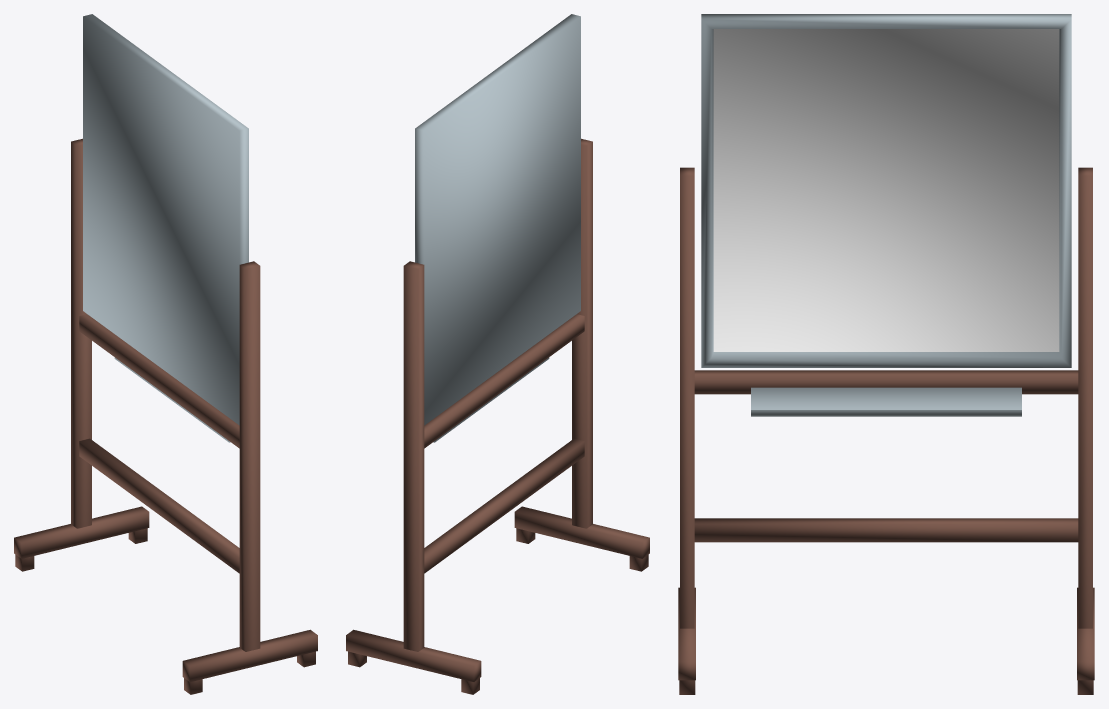
File: whiteboard.glb
3 views of the same model, side by side, from view 1: azimuth 30°, elevation 25°; view 2: azimuth 150°, elevation 25°; view 3: azimuth 270°, elevation 25° (orthographic). The views are drawn at different scales.
Parts seen in each view (by area): view 1: toy_024; view 2: toy_024; view 3: toy_024.
Part boxes in pixels (left/top/right/bottom): toy_024: left=14, top=14, right=317, bottom=694; toy_024: left=346, top=14, right=649, bottom=694; toy_024: left=678, top=14, right=1094, bottom=694.
Bounding box in the file's own units: 1.05 × 4.27 × 2.51.
Materials: 1 (1 with a texture image).
